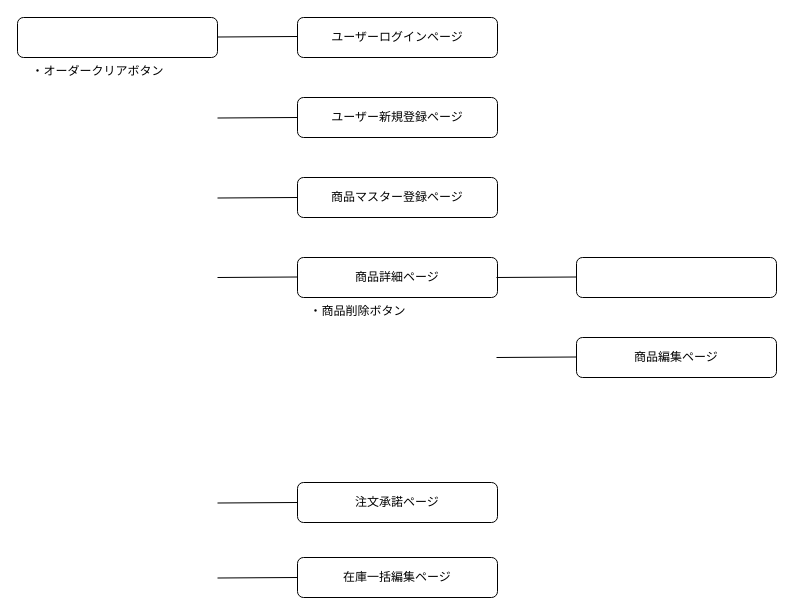
This 794x615 diagram has some shape labels left out. The shapes that lost their labels are listed below. From the top down, each one's centre as x and y in pixels, then its label:
At point 117,37: "商品一覧ページ".
At point 676,277: "商品注文ページ".
